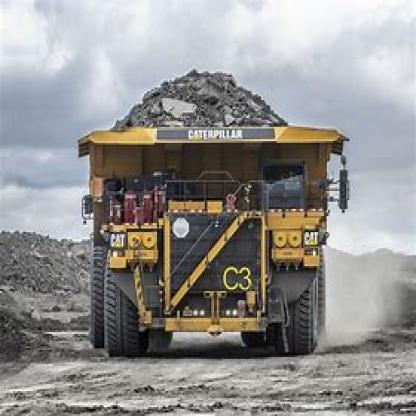dump_truck: (76, 70, 340, 362)
